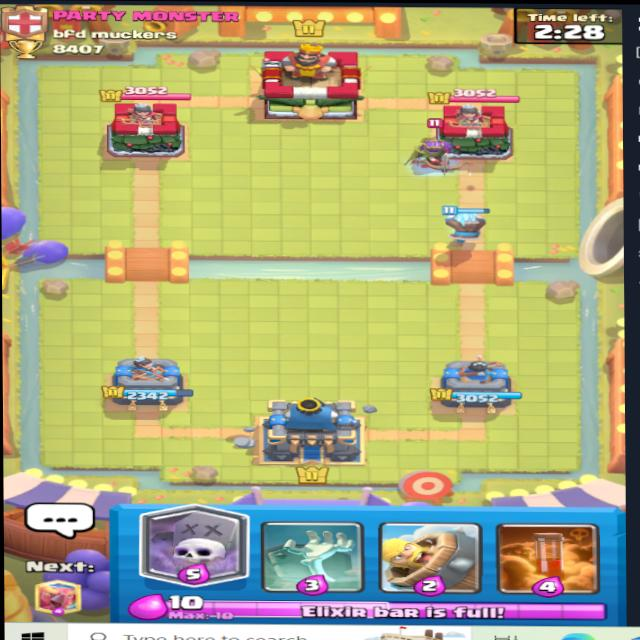archer-queen: (398, 118, 479, 184)
